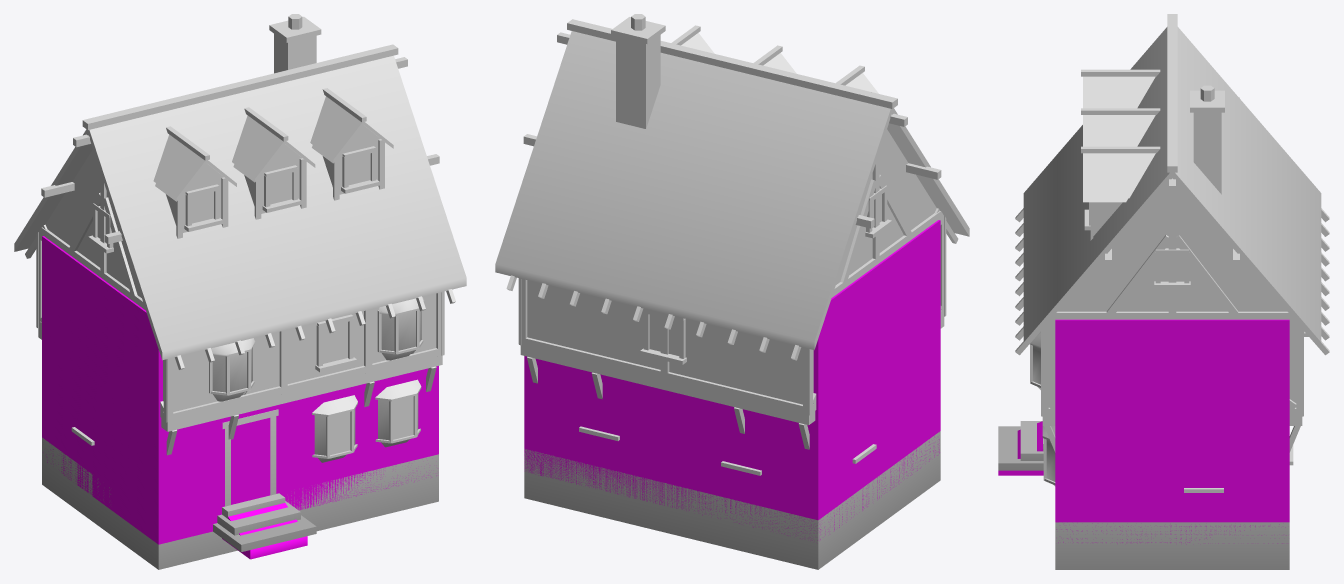
The model's file is imp_house_a.glb.
The picture shows the model from 3 angles, left to right: view 1: azimuth 30°, elevation 25°; view 2: azimuth 150°, elevation 25°; view 3: azimuth 270°, elevation 25°; orthographic projection. The views are drawn at different scales.
Parts seen in each view (by area): view 1: imp_house_a, imp_house_a_hull; view 2: imp_house_a, imp_house_a_hull; view 3: imp_house_a, imp_house_a_hull.
Boxes of the visible parts, bbox=[...] form: imp_house_a: bbox=[14, 14, 466, 569]; imp_house_a_hull: bbox=[42, 236, 438, 559]; imp_house_a: bbox=[495, 14, 969, 569]; imp_house_a_hull: bbox=[524, 220, 940, 540]; imp_house_a: bbox=[998, 14, 1329, 569]; imp_house_a_hull: bbox=[998, 319, 1289, 544].
Size of the model in its own units: 11 by 14.14 by 9.47.
